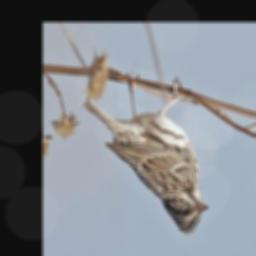Sparrow: (81, 67, 210, 236)
